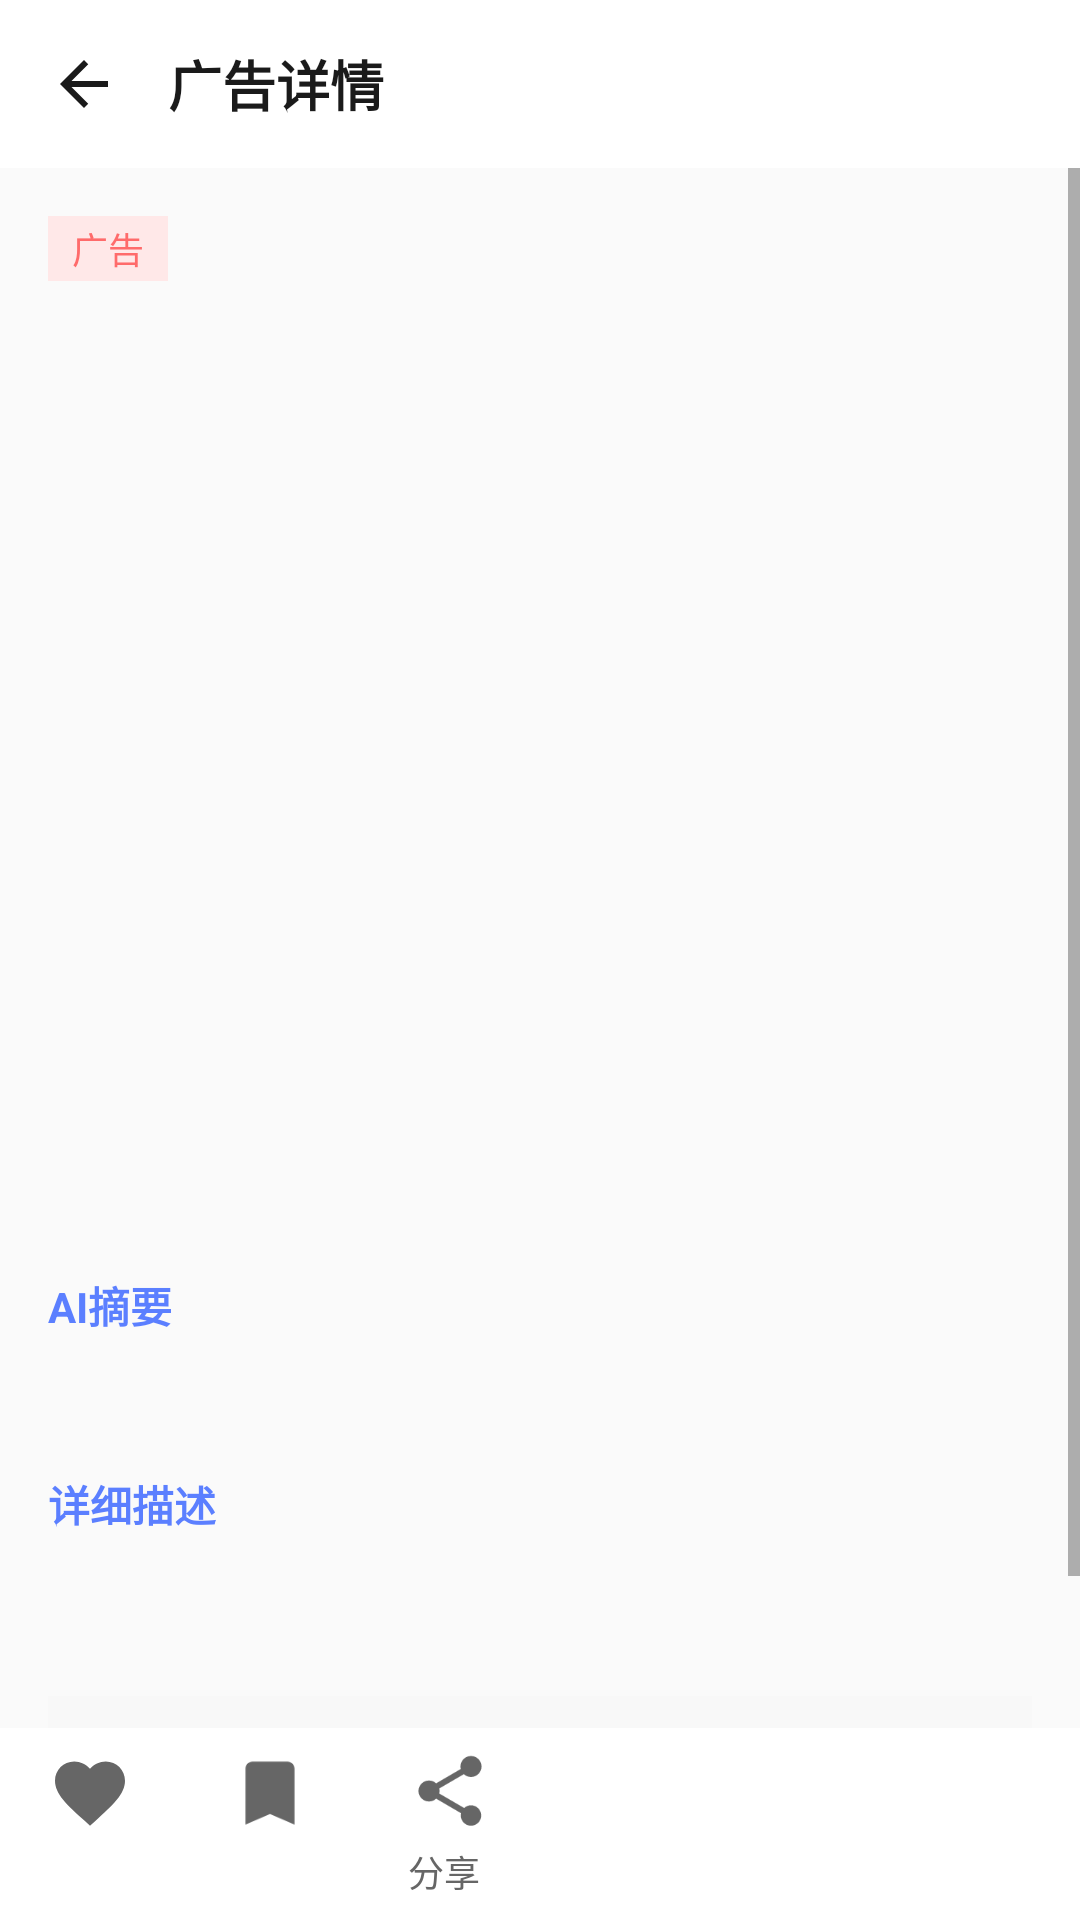

Named icons in this screenshot (1080w x 1920h) and their centers, (x,y):
back: (84,84)
like: (90,1793)
